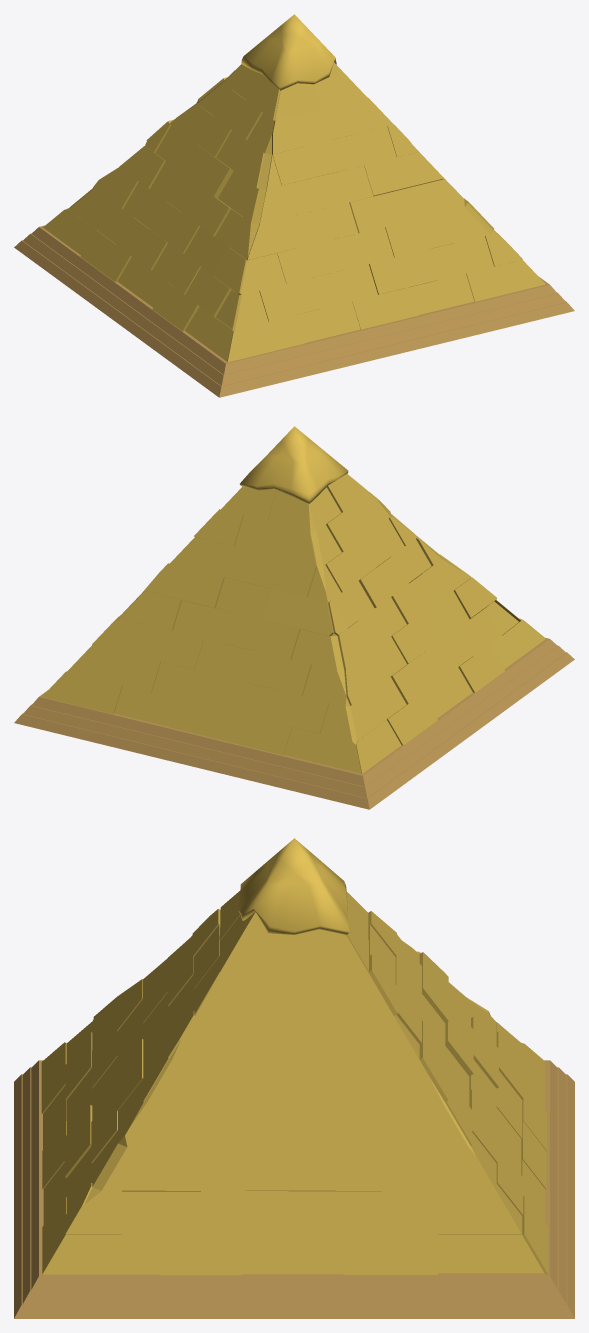
The picture shows the model from 3 angles, top to bottom: view 1: azimuth 30°, elevation 25°; view 2: azimuth 150°, elevation 25°; view 3: azimuth 270°, elevation 25°; orthographic projection. The views are drawn at different scales.
Parts seen in each view (by area): view 1: Cone.001; view 2: Cone.001; view 3: Cone.001.
Boxes of the visible parts, left/top/right/bottom form: Cone.001: left=14, top=14, right=574, bottom=397; Cone.001: left=14, top=426, right=574, bottom=809; Cone.001: left=14, top=838, right=574, bottom=1318.
Bounding box in the file's own units: 288 × 205 × 288.
